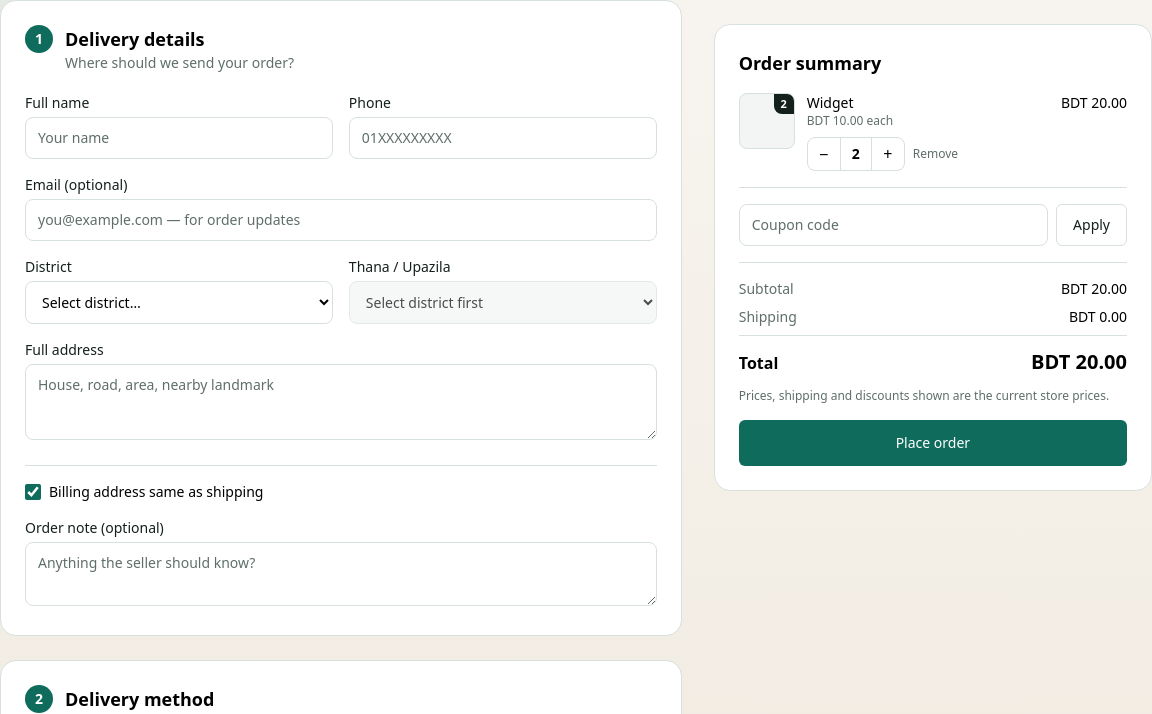
Test: CheckoutForm — SF-03 server pricing › changes quantities and removes items in the order summary, re-quoting each time
Expected: the text "updating totals" is not shown
Expected: the text "Total" is shown, [739, 351, 778, 375]
Click the button named "Increase quantity of Widget". click: (888, 154)
box: [872, 138, 904, 170]
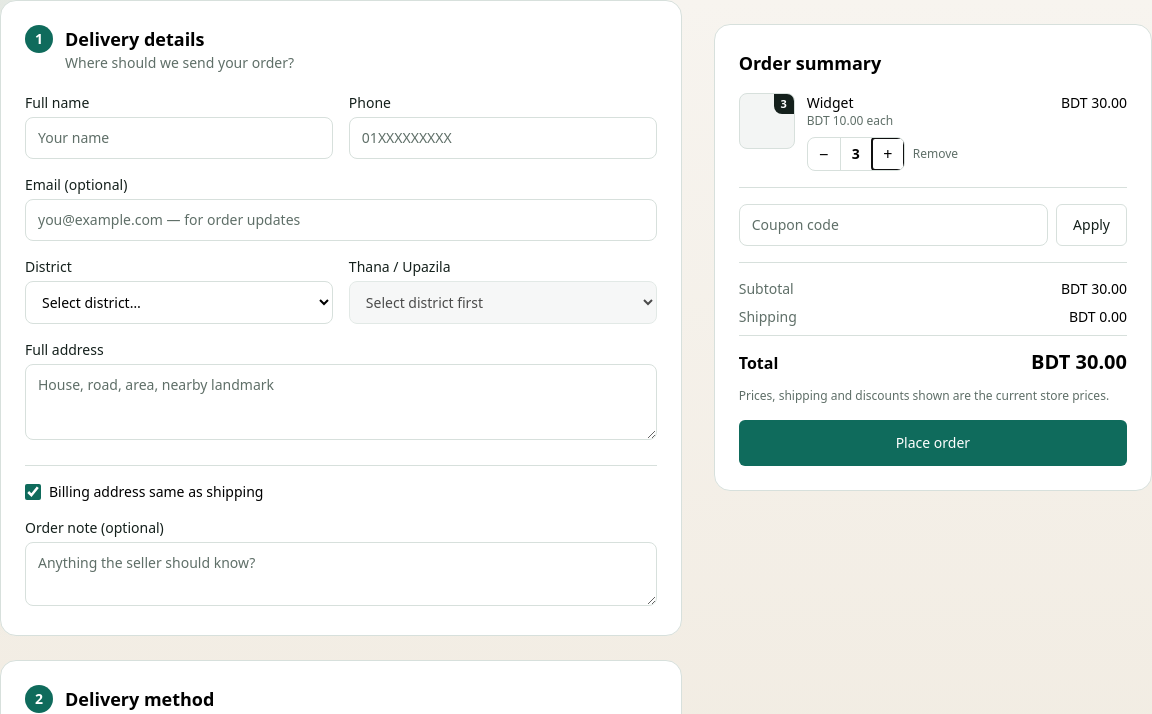
Now the text "Subtotal BDT 30.00" is shown, box [739, 279, 1127, 299]
Click the button named "Decrease quantity of Widget". click: (824, 154)
box: [808, 138, 840, 170]
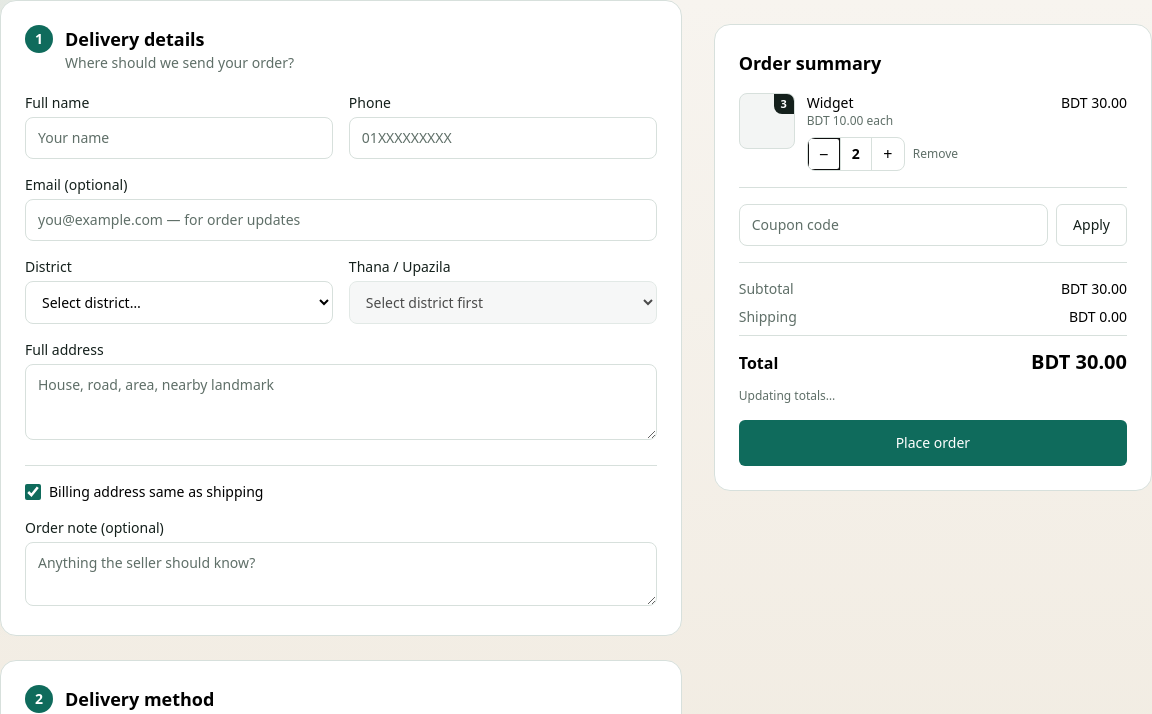
Click the button named "Decrease quantity of Widget". click: (824, 154)
box: [808, 138, 840, 170]
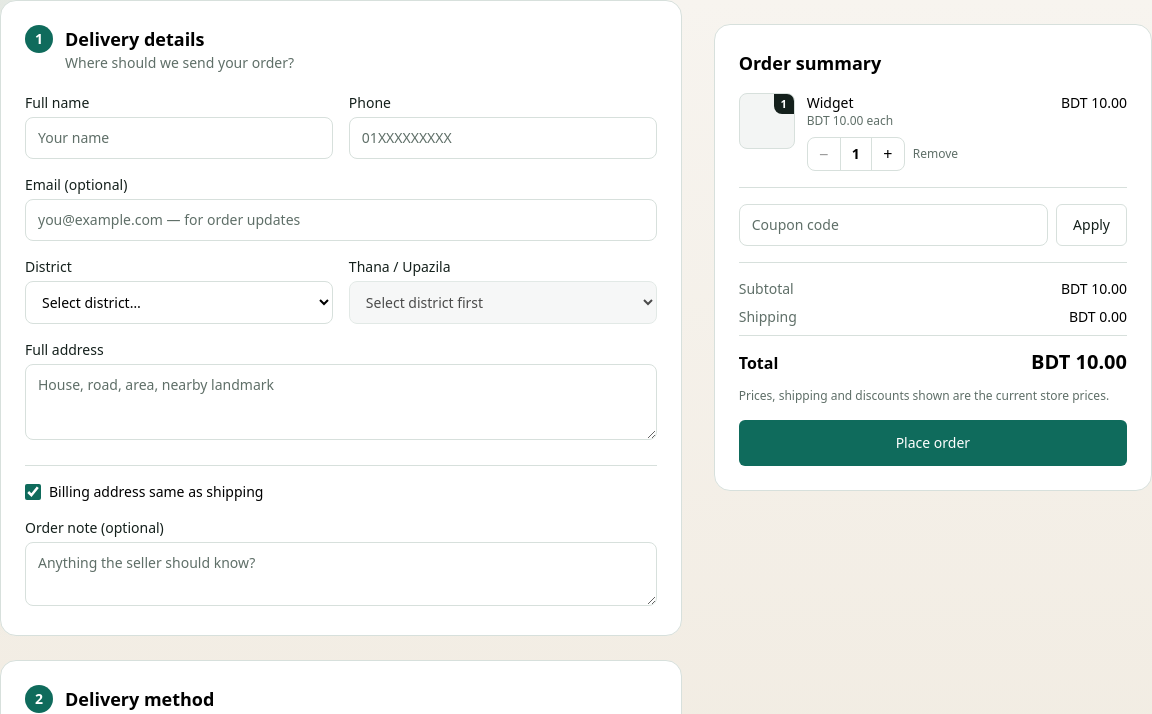
Now the text "Subtotal BDT 10.00" is shown, box [739, 279, 1127, 299]
Click the button with aria-label "Remove Widget". click: (935, 154)
box: [913, 146, 958, 162]
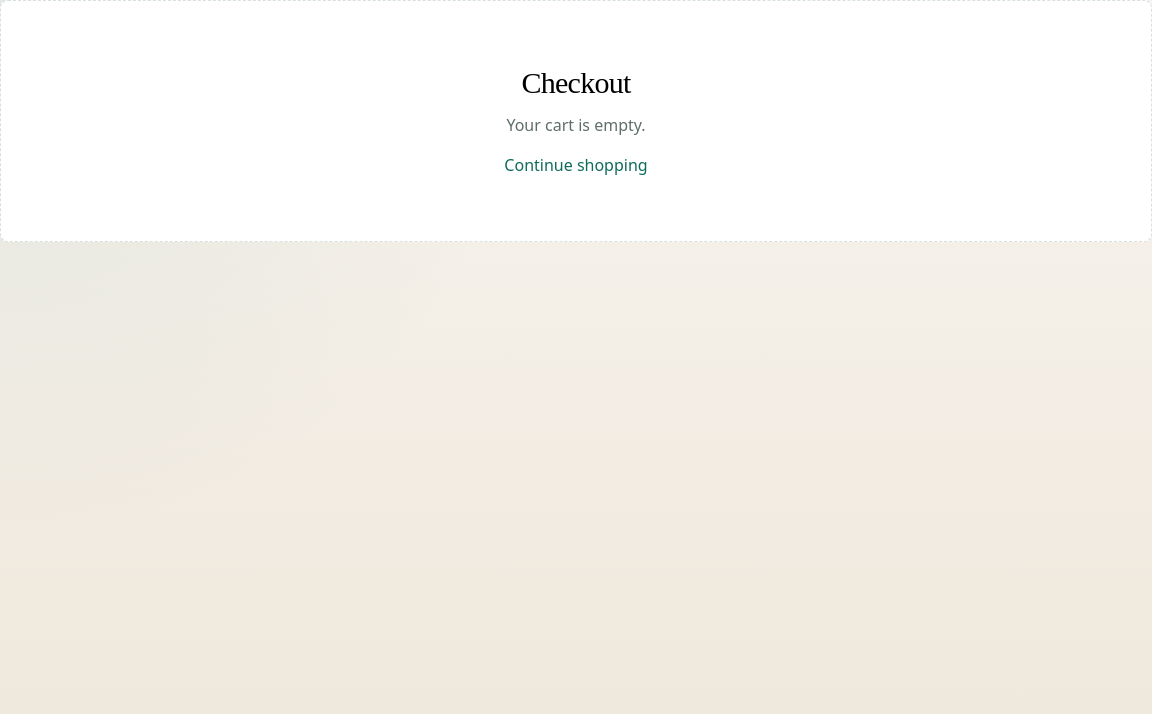
Now the text "Your cart is empty." is shown, box [506, 114, 646, 136]
